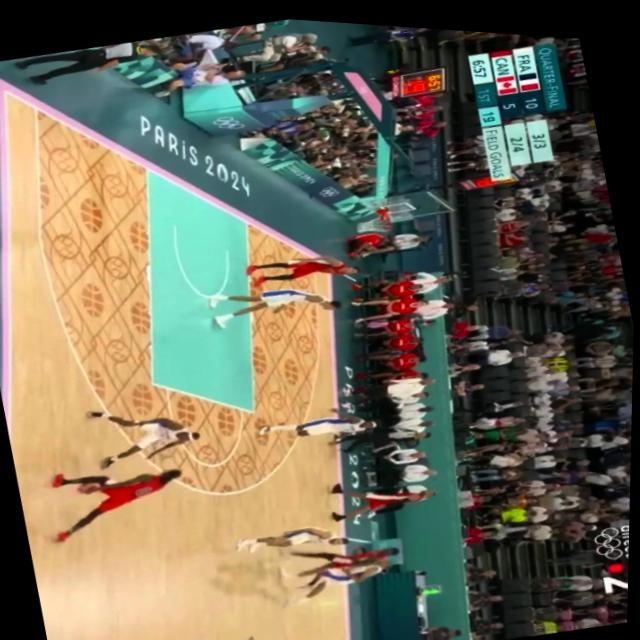ball_handler: (42, 450, 193, 550)
